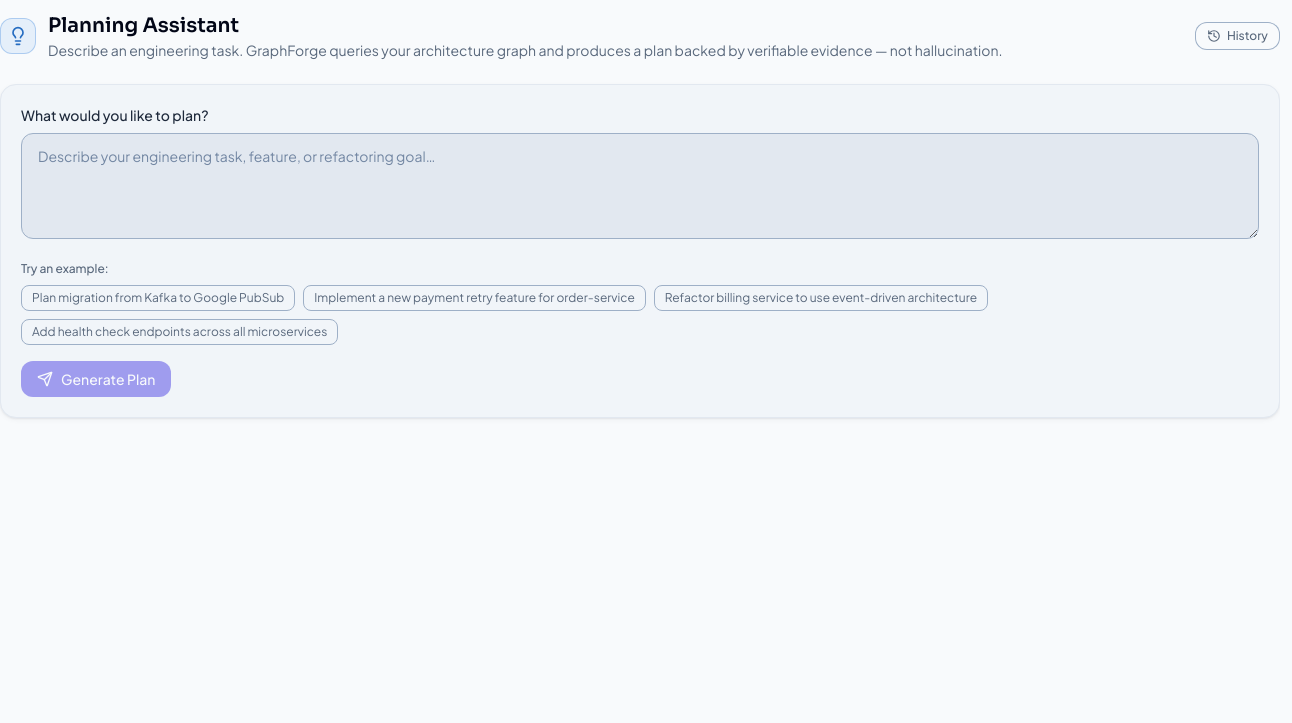
Test: PlanningPage › shows the error banner (not a crash) for a failed run with an empty step result
Type "Prepare implementation plan for a Jira ticket" into the text box labelled "What would you like to plan?".
click(640, 186); type("Prepare implementation plan for a Jira ticket")  # box x1=21 y1=133 x2=1259 y2=239
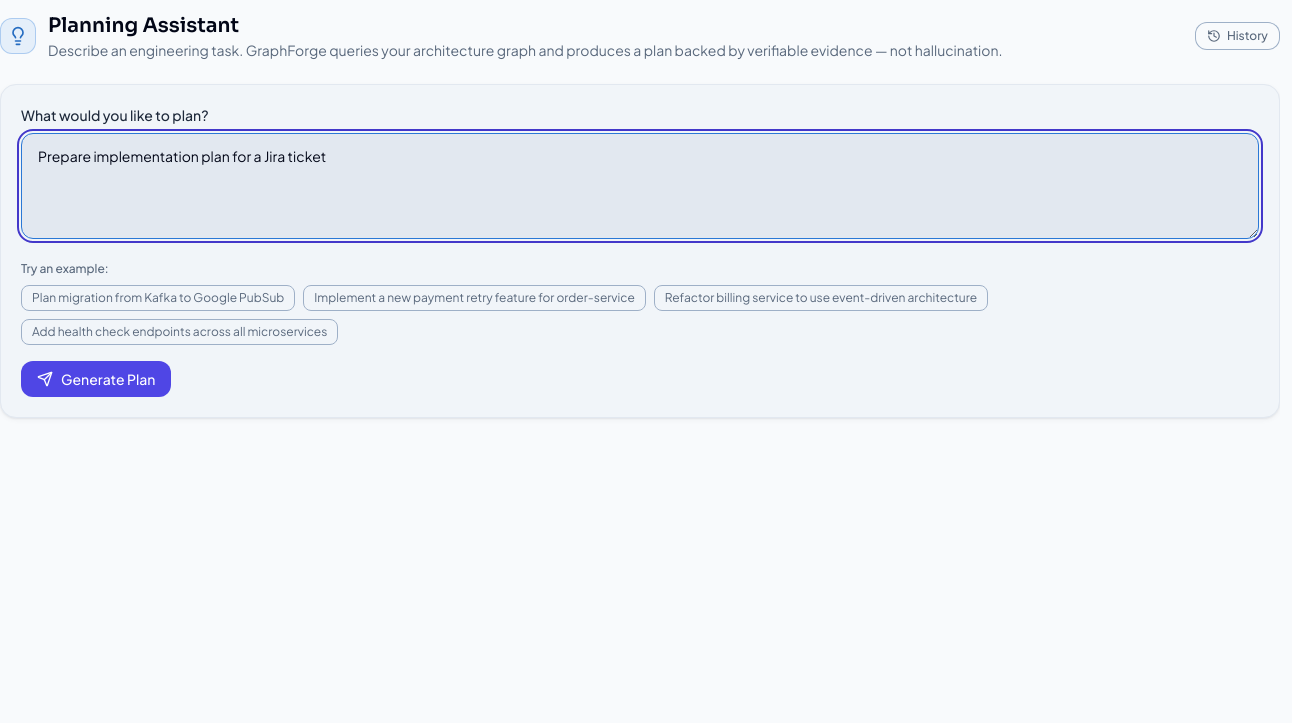
Click the button "Generate Plan".
click(96, 379)  # box x1=21 y1=361 x2=171 y2=397
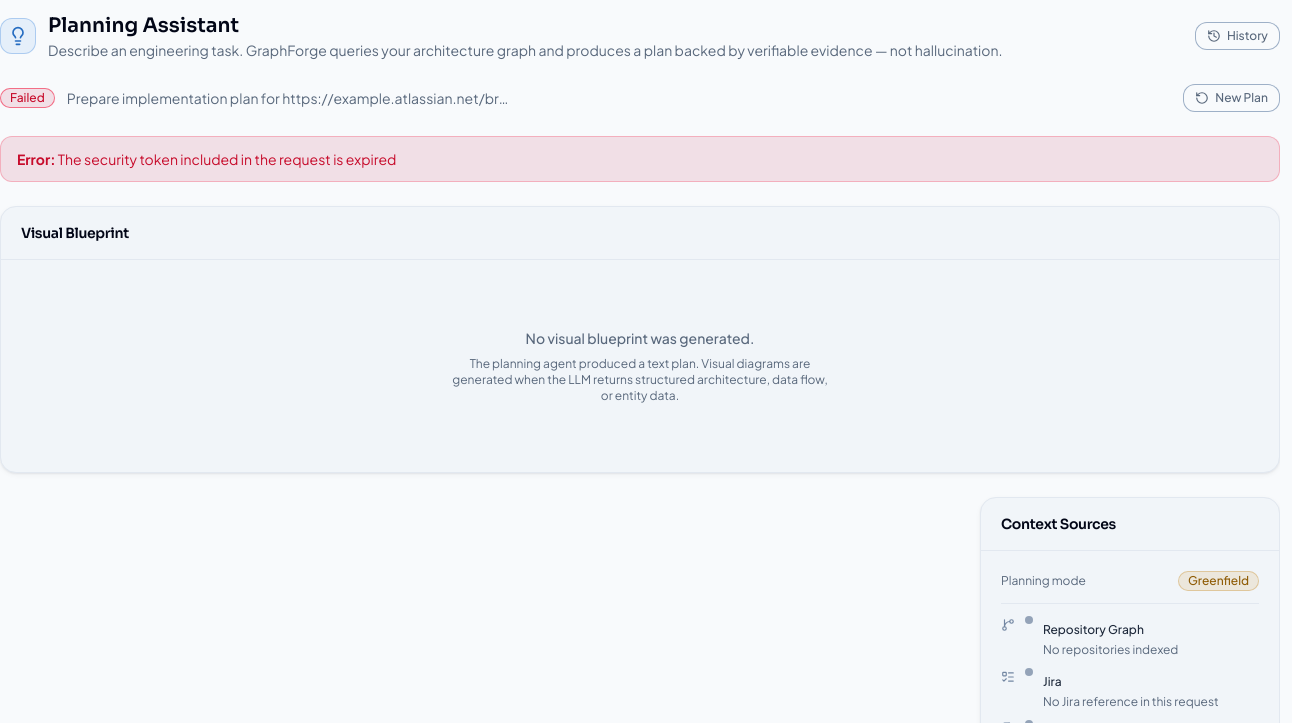
Result: the text "The security token included in the request is expired" is shown at x1=58 y1=150 x2=396 y2=168
